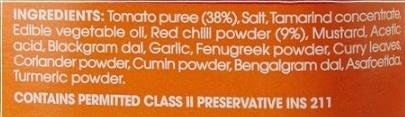ingredients: (7, 4, 405, 91)
